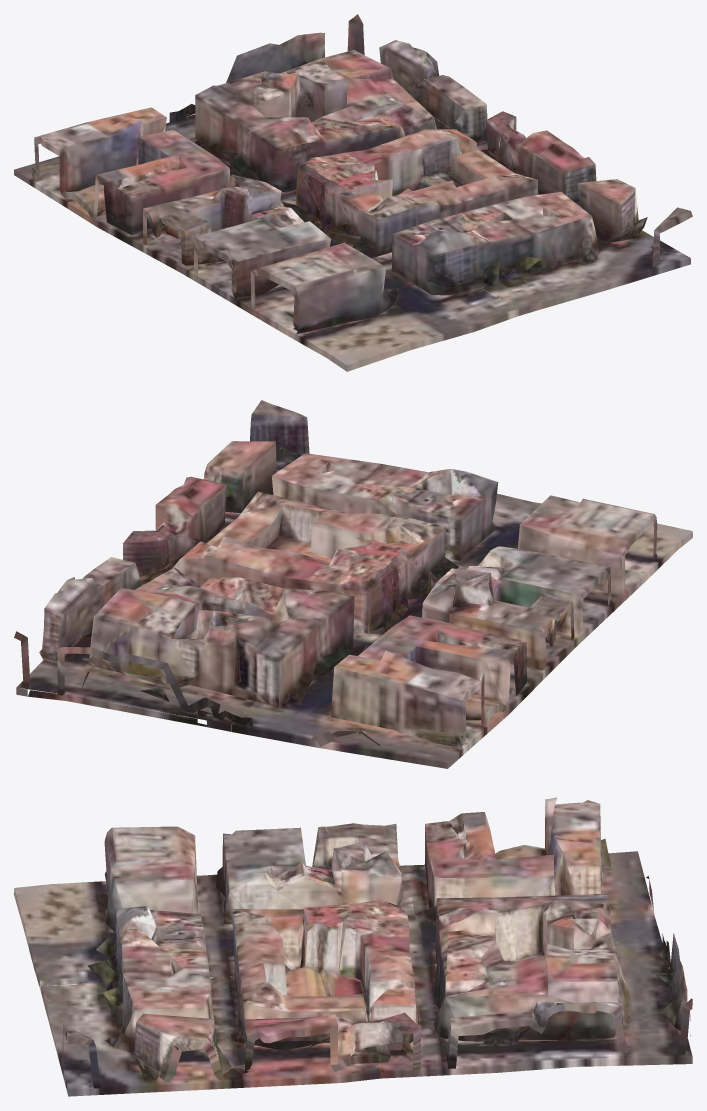
3 views of the same model, one above another, from view 1: azimuth 30°, elevation 25°; view 2: azimuth 150°, elevation 25°; view 3: azimuth 270°, elevation 25° (orthographic). The views are drawn at different scales.
Parts seen in each view (by area): view 1: Mesh_0; view 2: Mesh_0; view 3: Mesh_0.
Boxes of the visible parts, x1,y1,x2,y2 form: Mesh_0: [14, 14, 692, 371]; Mesh_0: [14, 400, 692, 768]; Mesh_0: [14, 797, 692, 1096].
Bounding box in the file's own units: 268 × 42.07 × 330.
2 materials, 2 textured.
